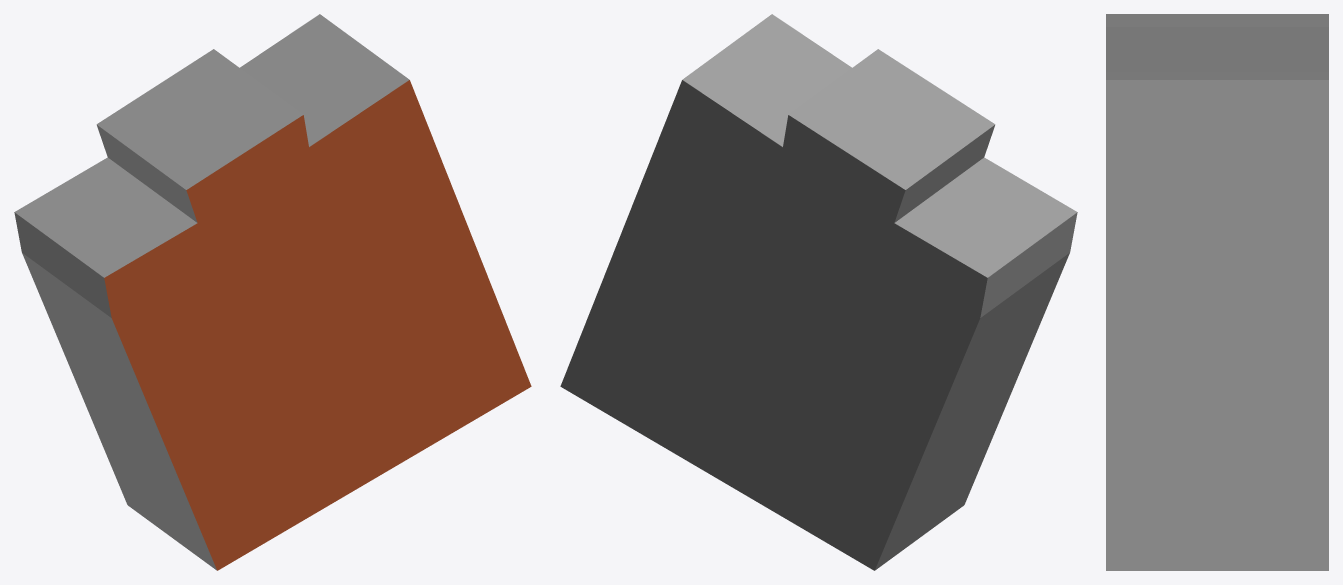
The model's file is construction_4197_assumed_A_Casa_h6m.obj.
3 renders of one model, left to right at view 1: azimuth 30°, elevation 25°; view 2: azimuth 150°, elevation 25°; view 3: azimuth 270°, elevation 25°, orthographic. The views are drawn at different scales.
Visible parts, largest first — view 1: construction_4197_assumed_A_Casa; view 2: construction_4197_assumed_A_Casa; view 3: construction_4197_assumed_A_Casa.
Boxes of the visible parts, box(x1,y1,x2,y2) form: construction_4197_assumed_A_Casa: box(14, 14, 531, 570); construction_4197_assumed_A_Casa: box(560, 14, 1077, 570); construction_4197_assumed_A_Casa: box(1106, 14, 1328, 570).
Size of the model in its own units: 16.47 by 16.36 by 6.
